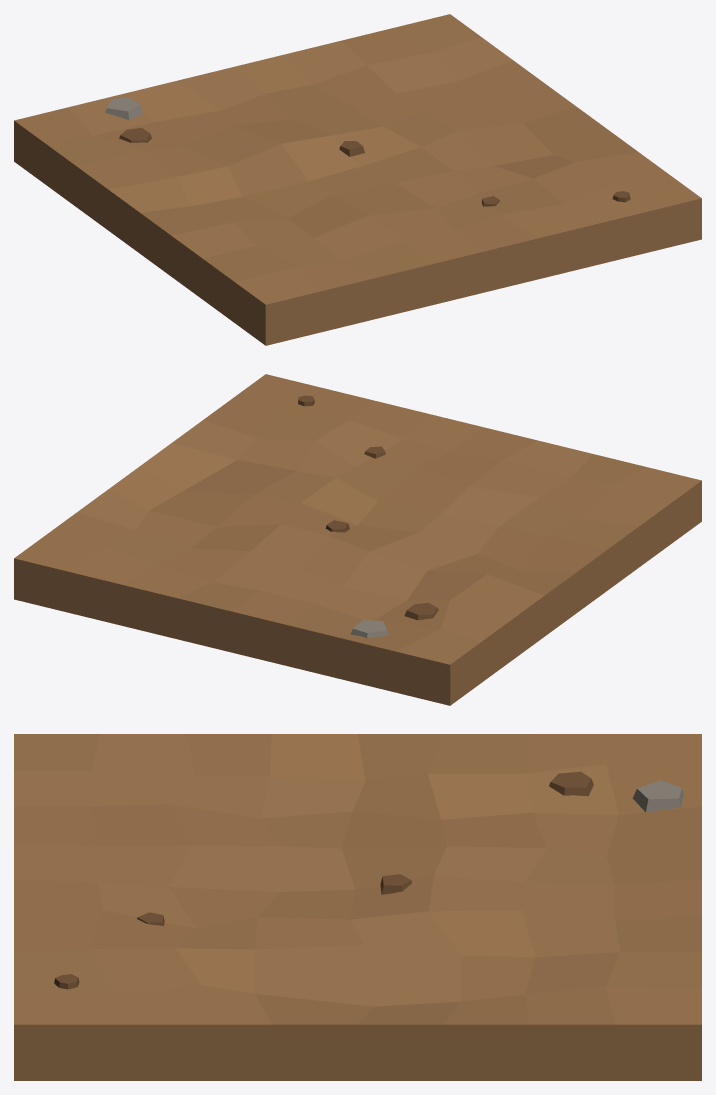
Rendered from SM_Ground_Dirt.obj.
3 renders of one model, top to bottom at view 1: azimuth 30°, elevation 25°; view 2: azimuth 150°, elevation 25°; view 3: azimuth 270°, elevation 25°, orthographic. The views are drawn at different scales.
Parts seen in each view (by area): view 1: SM_Ground_Dirt; view 2: SM_Ground_Dirt; view 3: SM_Ground_Dirt.
Boxes of the visible parts, left/top/right/bottom form: SM_Ground_Dirt: left=14, top=14, right=701, bottom=345; SM_Ground_Dirt: left=14, top=374, right=701, bottom=705; SM_Ground_Dirt: left=14, top=734, right=701, bottom=1080.
Size of the model in its own units: 2 by 0.1988 by 2.
